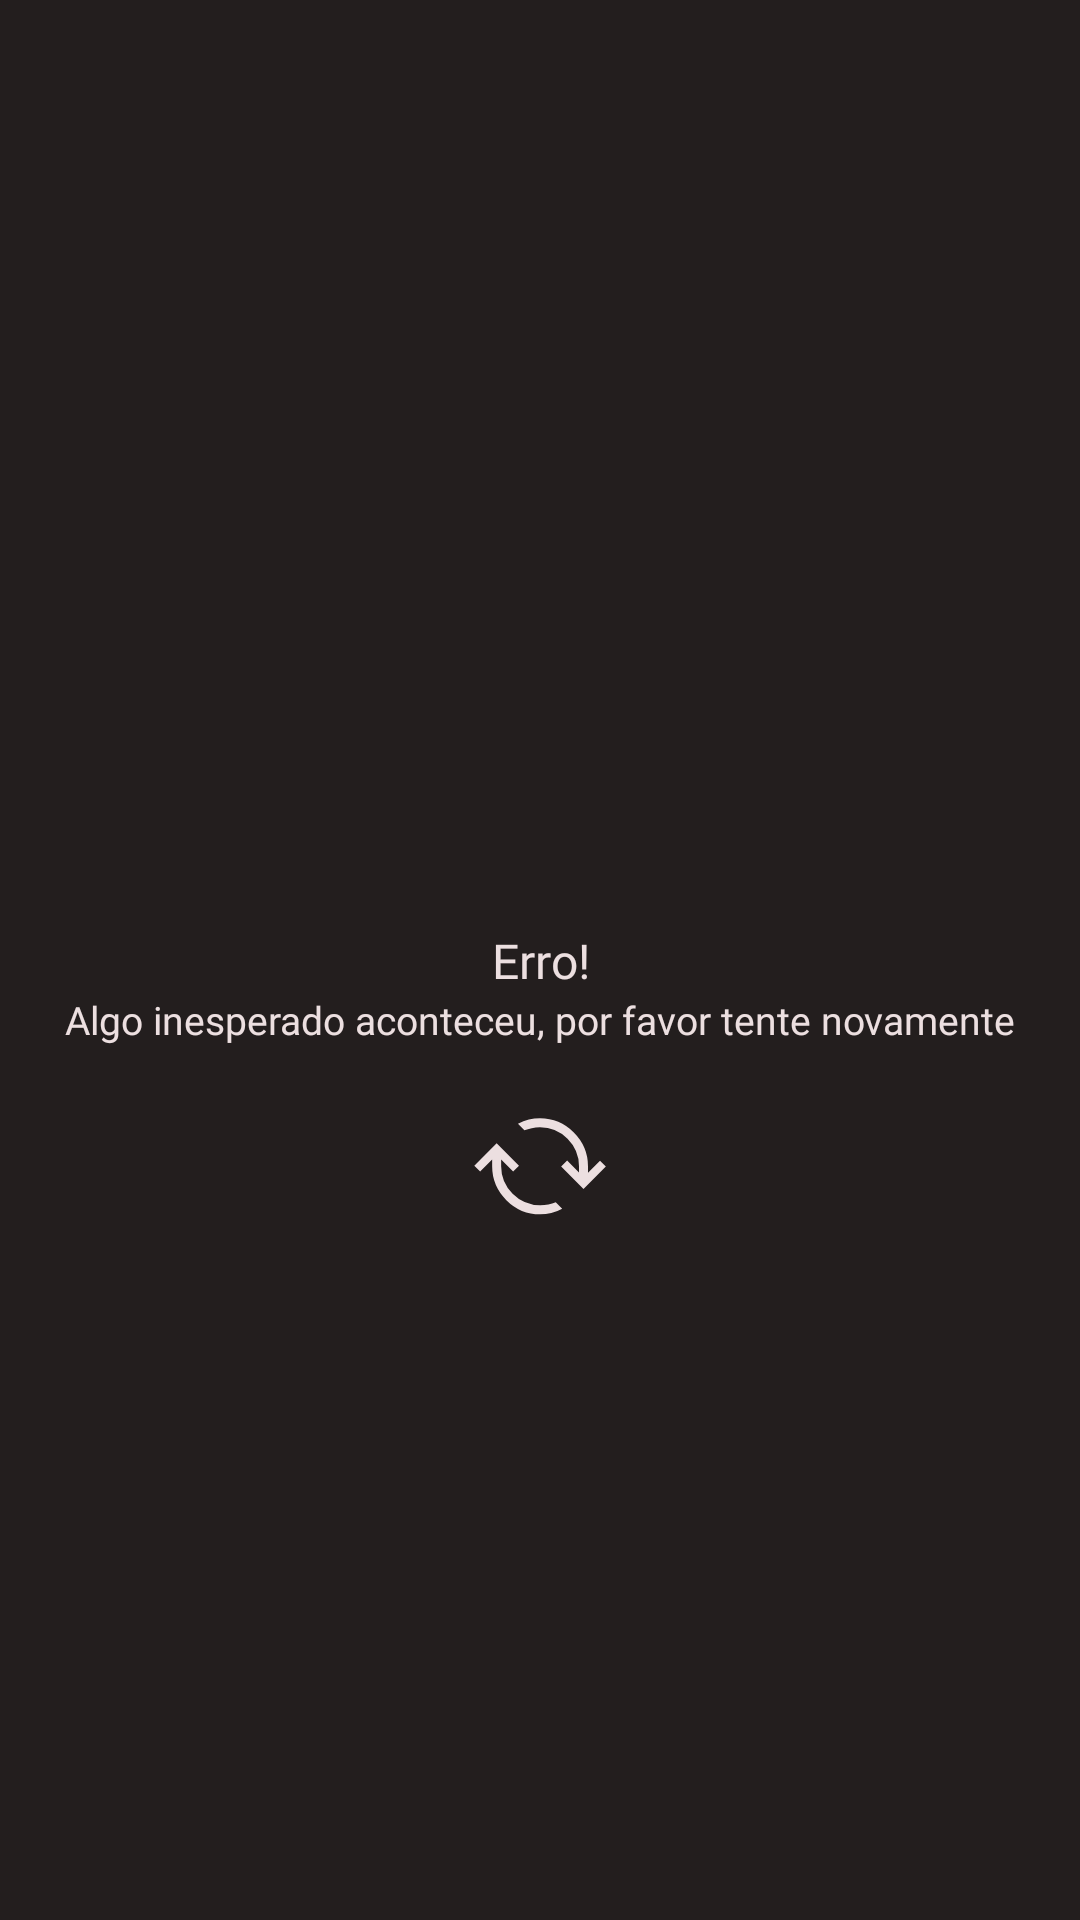

Screen size 1080px x 1920px. Icon name, then its center in pixels as [x,y]:
reload: [540,1166]
